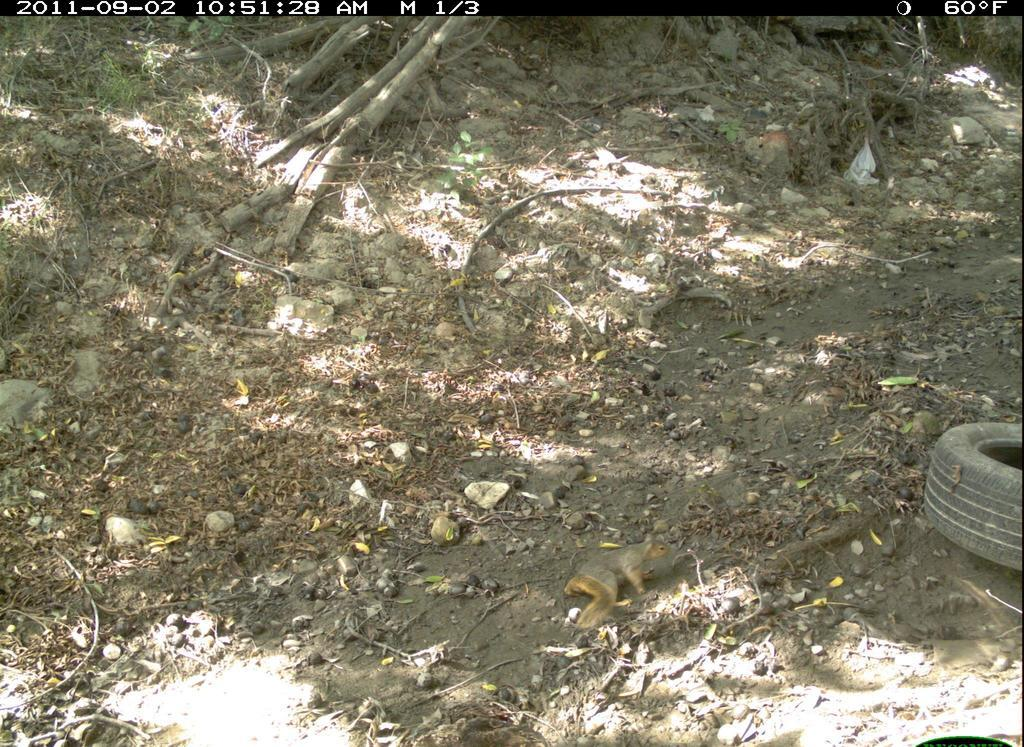squirrel: (559, 530, 674, 628)
